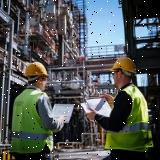Helmet: (110, 58, 136, 76), (24, 62, 49, 76)
Vest: (104, 84, 154, 152), (10, 84, 54, 154)
